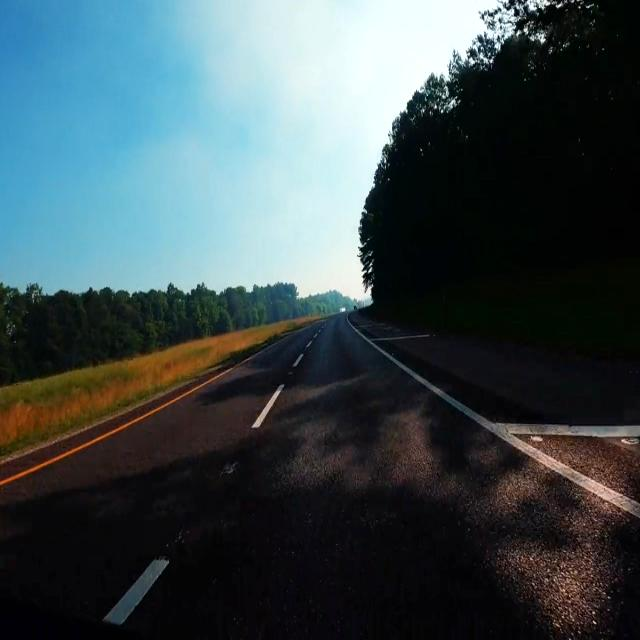lane: (348, 320, 640, 517), (0, 366, 240, 486), (104, 556, 169, 624), (252, 384, 284, 429), (152, 387, 200, 412), (221, 463, 239, 476)
road: (0, 316, 640, 636)
